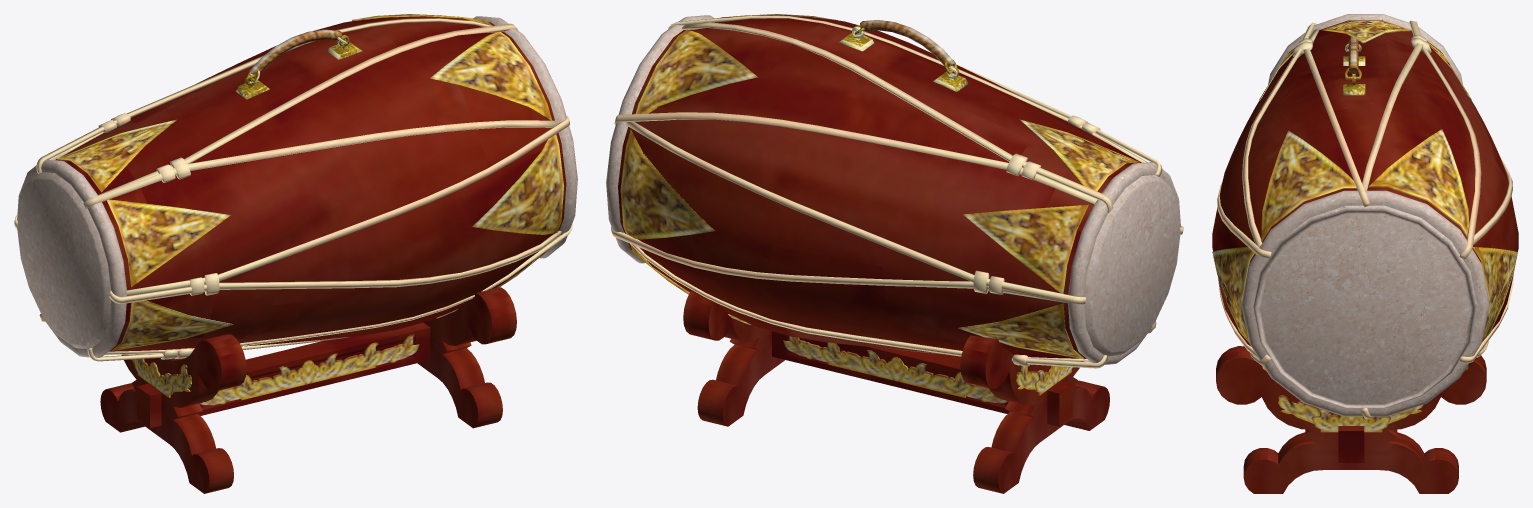
Rendered from kendang.glb.
The picture shows the model from 3 angles, left to right: view 1: azimuth 30°, elevation 25°; view 2: azimuth 150°, elevation 25°; view 3: azimuth 270°, elevation 25°; orthographic projection. The views are drawn at different scales.
Visible parts, largest first — view 1: Object_107, Object_19, Object_105, Object_104, Object_41; view 2: Object_107, Object_19, Object_105, Object_104, Object_41; view 3: Object_104, Object_107, Object_19, Object_105, Object_41.
Part boxes in pixels (x1=…): Object_107: x1=55, y1=16, x2=566, y2=493; Object_19: x1=56, y1=14, x2=564, y2=405; Object_105: x1=14, y1=18, x2=572, y2=361; Object_104: x1=17, y1=16, x2=577, y2=357; Object_41: x1=235, y1=35, x2=362, y2=99; Object_107: x1=618, y1=15, x2=1141, y2=493; Object_19: x1=620, y1=14, x2=1139, y2=403; Object_105: x1=611, y1=15, x2=1183, y2=368; Object_104: x1=606, y1=15, x2=1180, y2=364; Object_41: x1=838, y1=25, x2=968, y2=91; Object_104: x1=1241, y1=14, x2=1489, y2=416; Object_107: x1=1212, y1=20, x2=1518, y2=493; Object_19: x1=1212, y1=20, x2=1517, y2=432; Object_105: x1=1217, y1=20, x2=1513, y2=418; Object_41: x1=1343, y1=43, x2=1365, y2=95.
Bounding box in the file's own units: 0.3584 × 0.2829 × 0.2061.
Materials: 5 (5 with a texture image).
